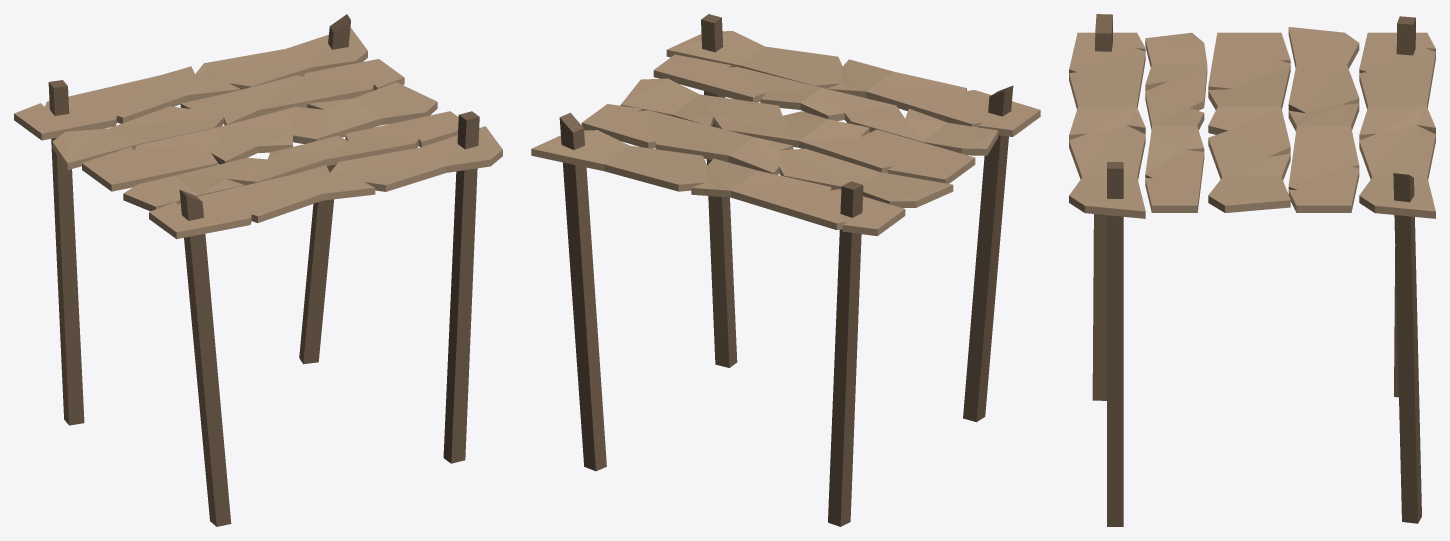
File: Platform_5.fbx
3 views of the same model, side by side, from view 1: azimuth 30°, elevation 25°; view 2: azimuth 150°, elevation 25°; view 3: azimuth 270°, elevation 25° (orthographic). The views are drawn at different scales.
Visible parts, largest first — view 1: Platform_5; view 2: Platform_5; view 3: Platform_5.
Part boxes in pixels (left/top/right/bottom): Platform_5: left=14, top=14, right=502, bottom=526; Platform_5: left=531, top=14, right=1040, bottom=526; Platform_5: left=1069, top=14, right=1435, bottom=526.
Bounding box in the file's own units: 440 × 407 × 370.
1 material, 1 textured.
